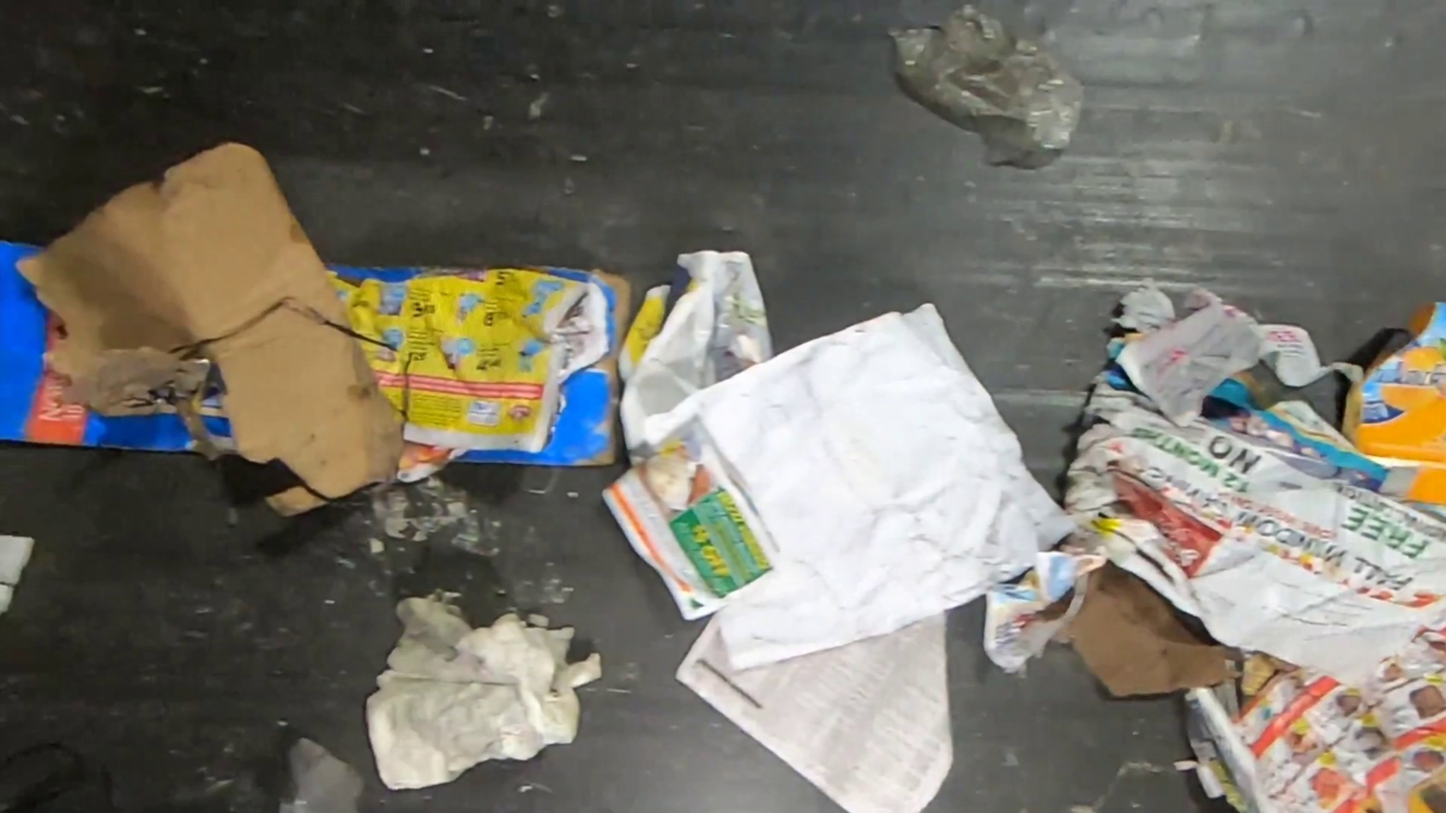cardboard: (10, 140, 402, 518), (321, 256, 636, 483), (0, 239, 241, 463), (1339, 299, 1446, 512)
plastic: (884, 1, 1088, 168)
